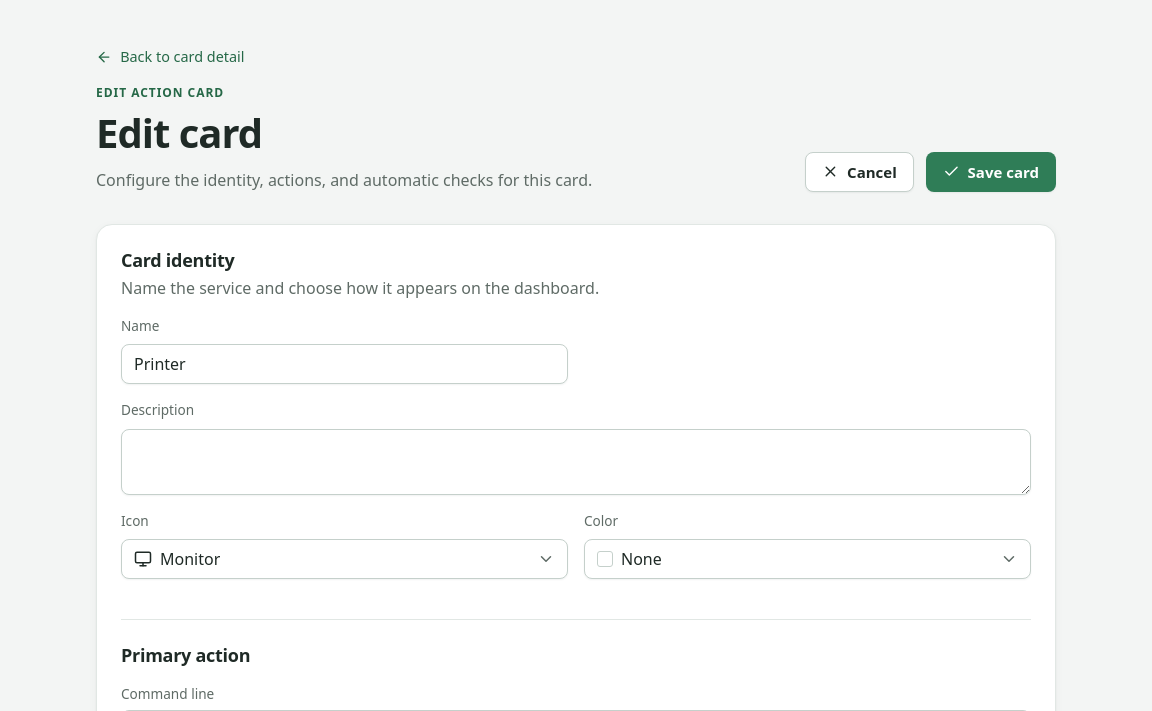
CardEditView › shows a colour rejected by the server beside the Color field
The image size is (1152, 711).
Step 1. Replace the text in the field labelled "Name" with "Printer 2" → (344, 364), box [121,344,568,384]
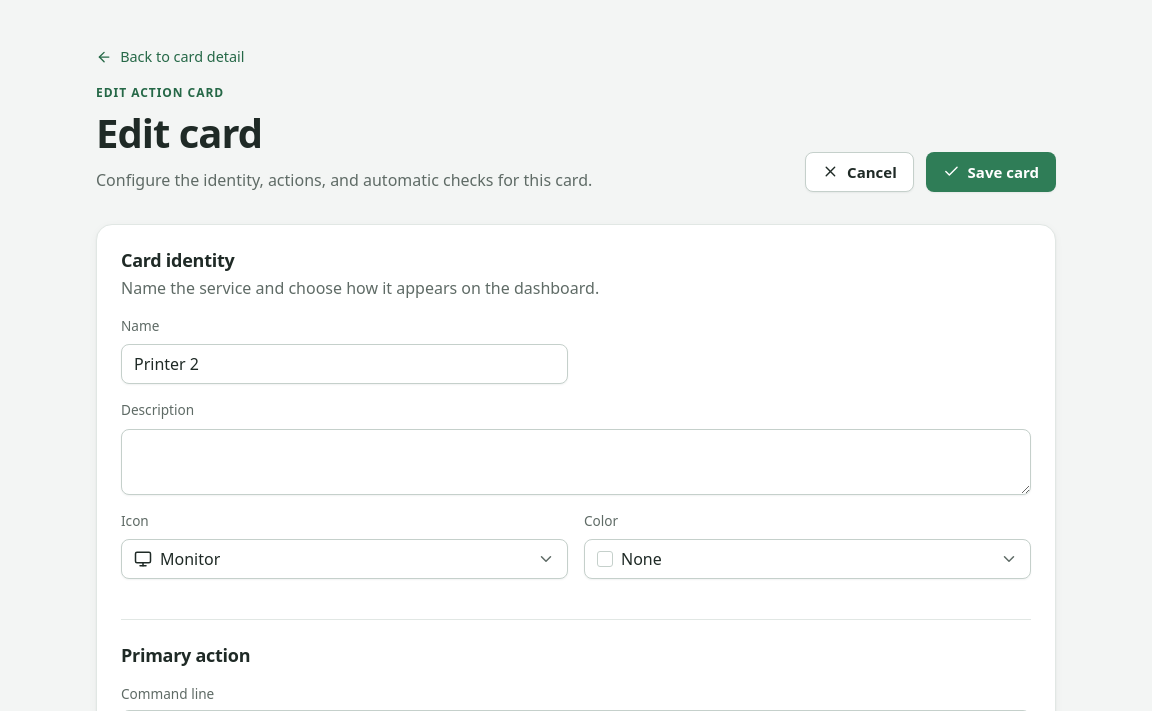
Step 2. Click the button "Save card" → (991, 172), box [926,152,1056,192]
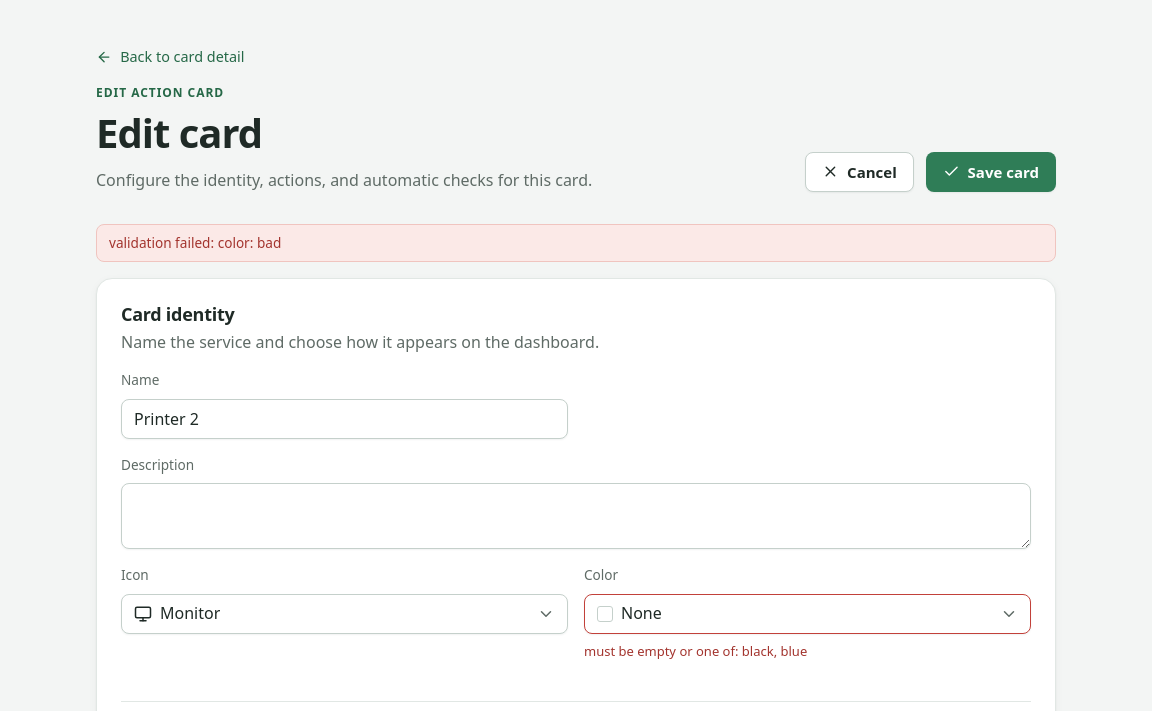
Expected: the text with class "field-error" reads "must be empty or one of: black, blue", [584,642,807,660]
